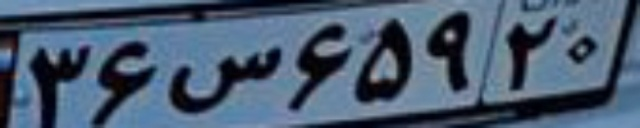0: (561, 34, 601, 64)
2: (505, 13, 559, 91)
3: (29, 43, 89, 127)
5: (353, 18, 413, 103)
6: (288, 21, 351, 111), (93, 40, 156, 127)
9: (425, 10, 471, 91)
sin: (168, 44, 283, 113)
